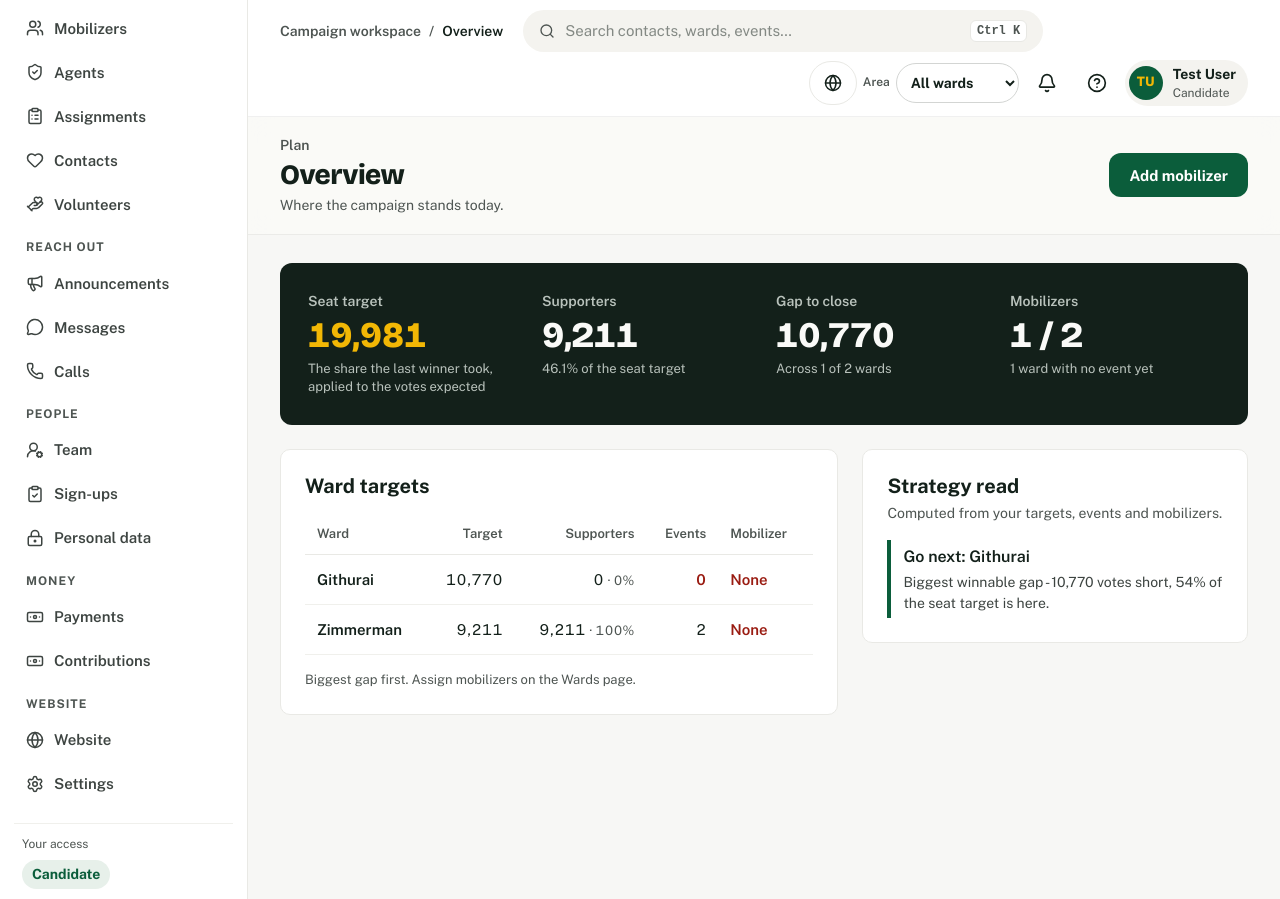
Scenario: the team page › lets the aspirant replace the manager, who is emailed an invite
The width and height of the screenshot is (1280, 899).
(page scrolled)
Click the link "Team" at (59, 450), box left=26, top=441, right=92, bottom=459
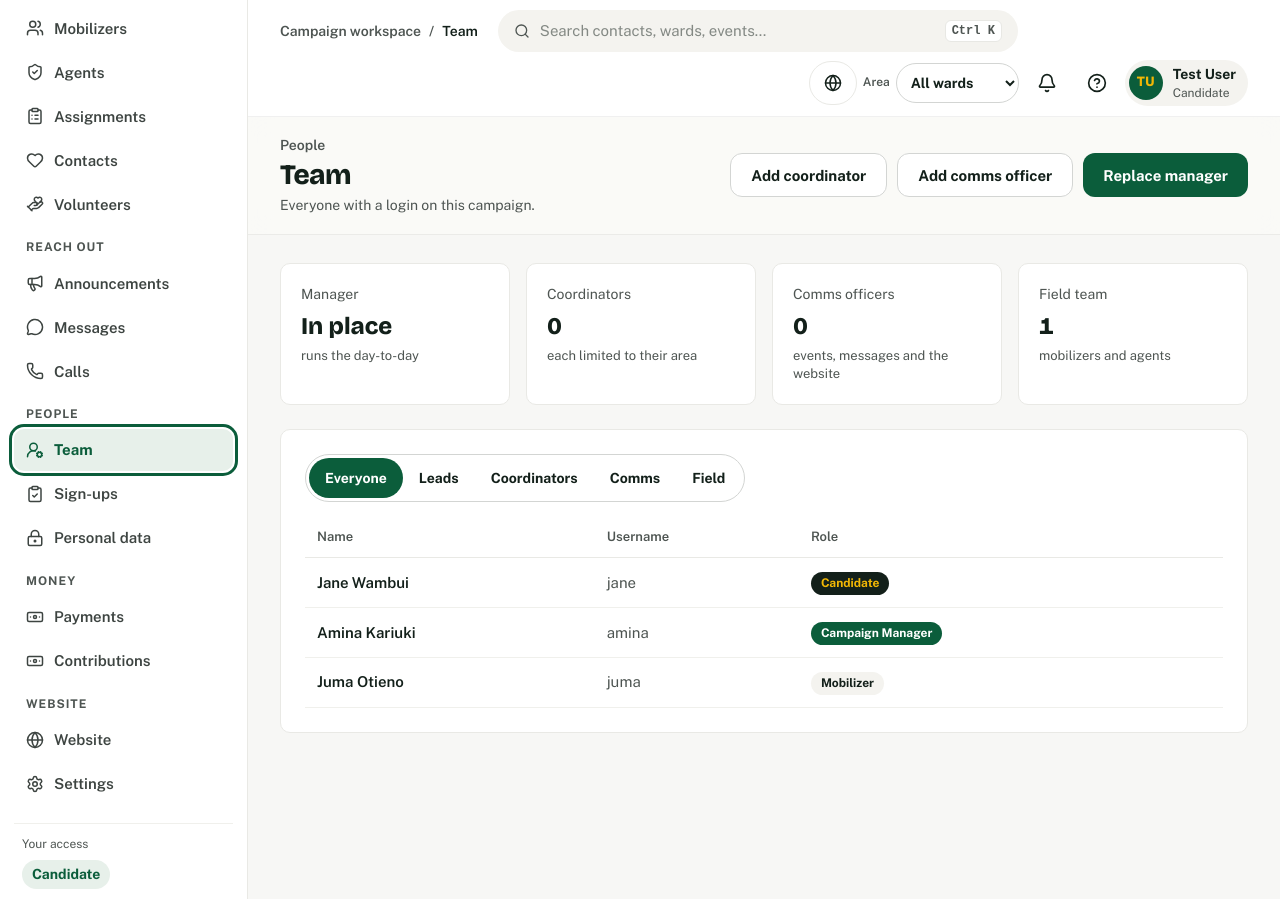
Check: the text "Amina Kariuki" is shown, box left=305, top=607, right=595, bottom=657
Click the button "Replace manager" at (1166, 175), box left=1083, top=153, right=1248, bottom=197
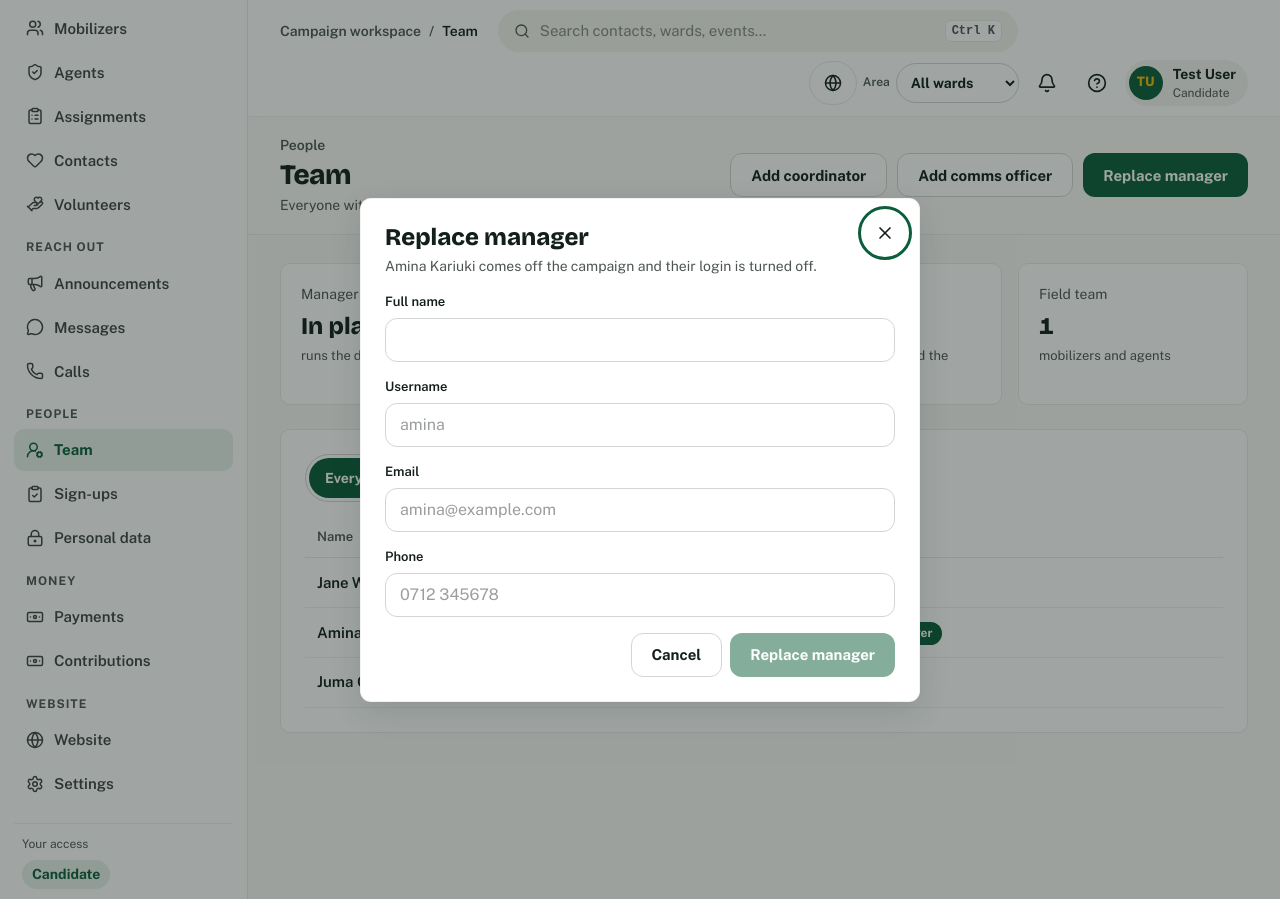
Type "Wanjiru Kamau" into the field labelled "Full name" at (640, 340), box left=385, top=318, right=895, bottom=362
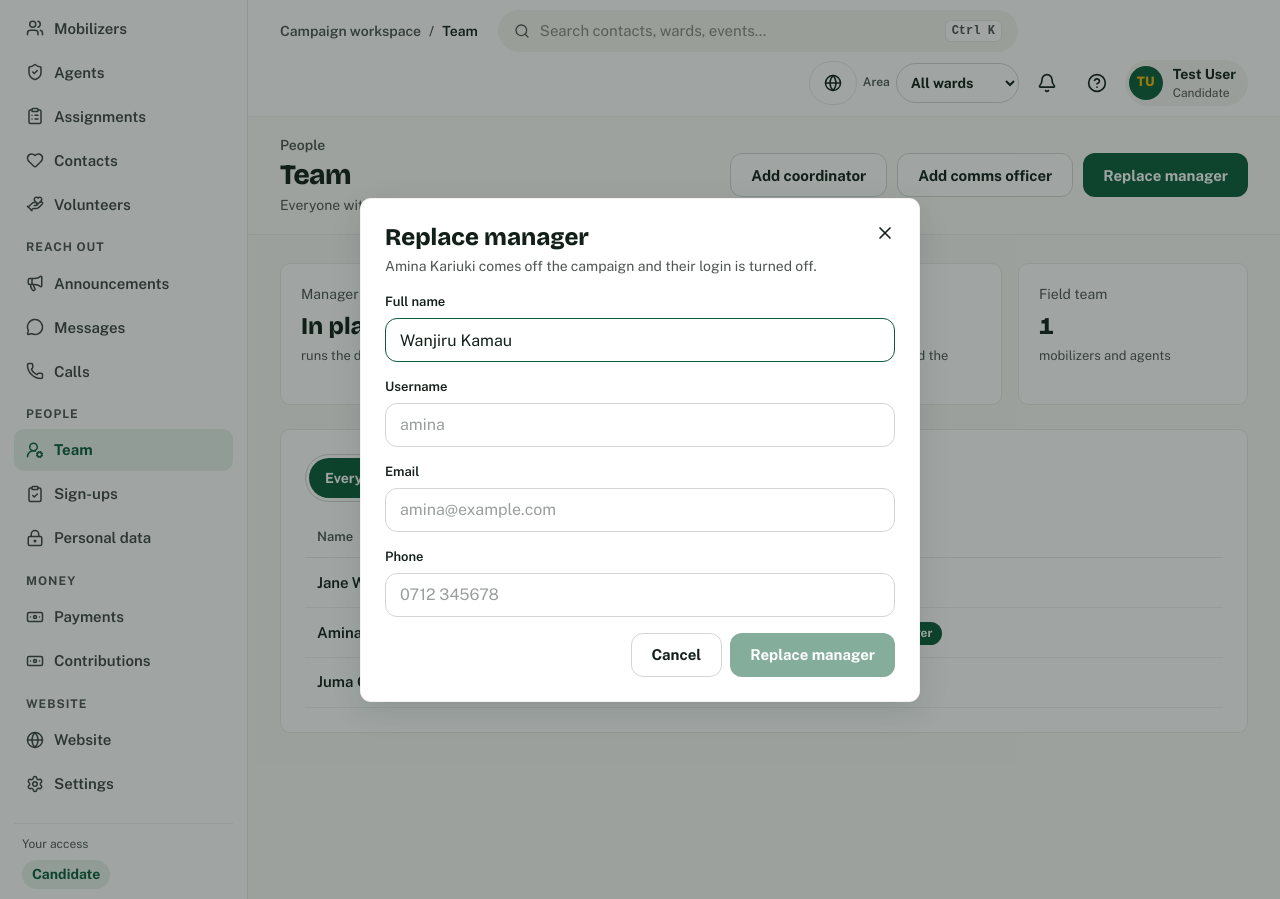
Type "Wanjiru" into the field labelled "Username" at (640, 425), box left=385, top=403, right=895, bottom=447
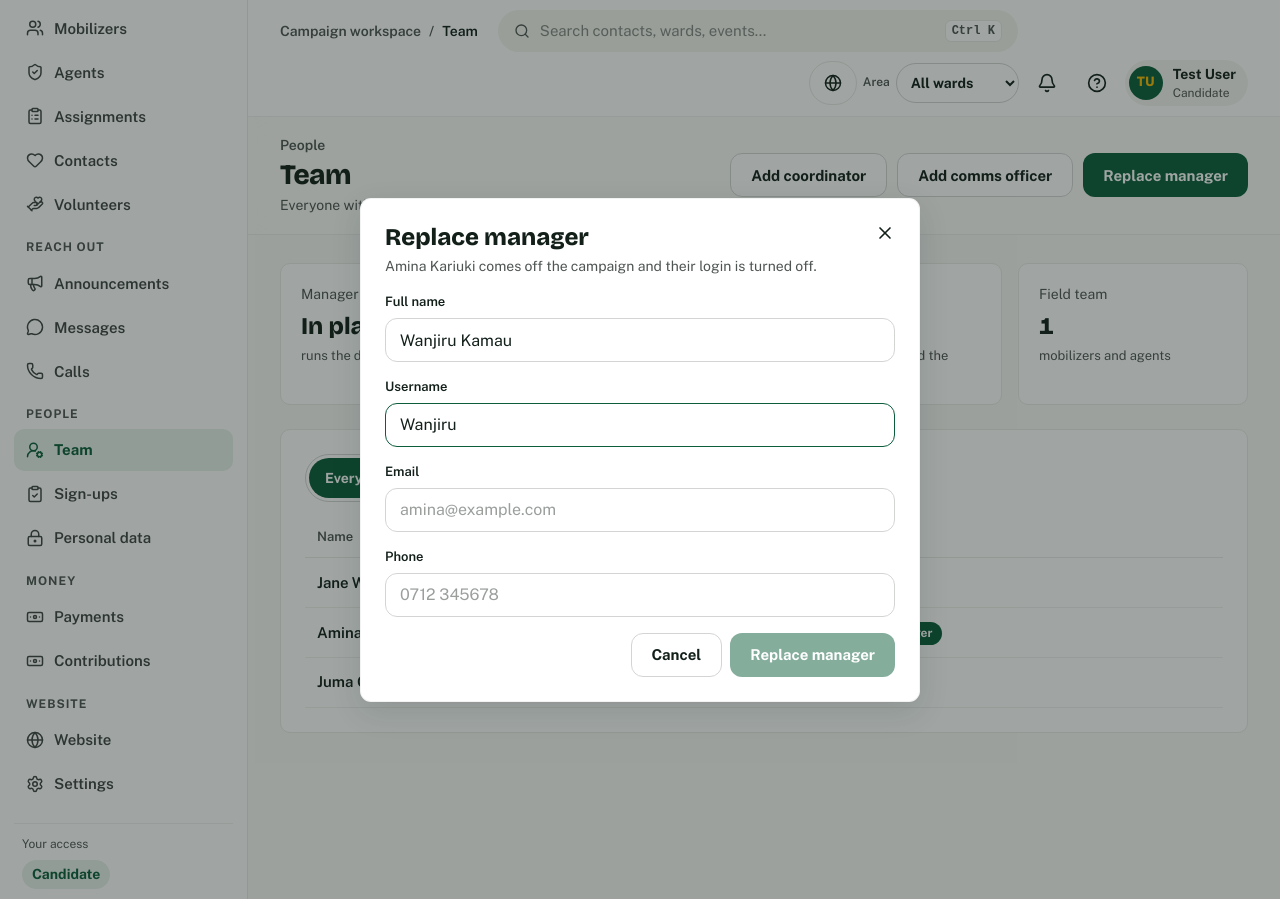
Type "wanjiru@example.com" into the field labelled "Email" at (640, 510), box left=385, top=488, right=895, bottom=532
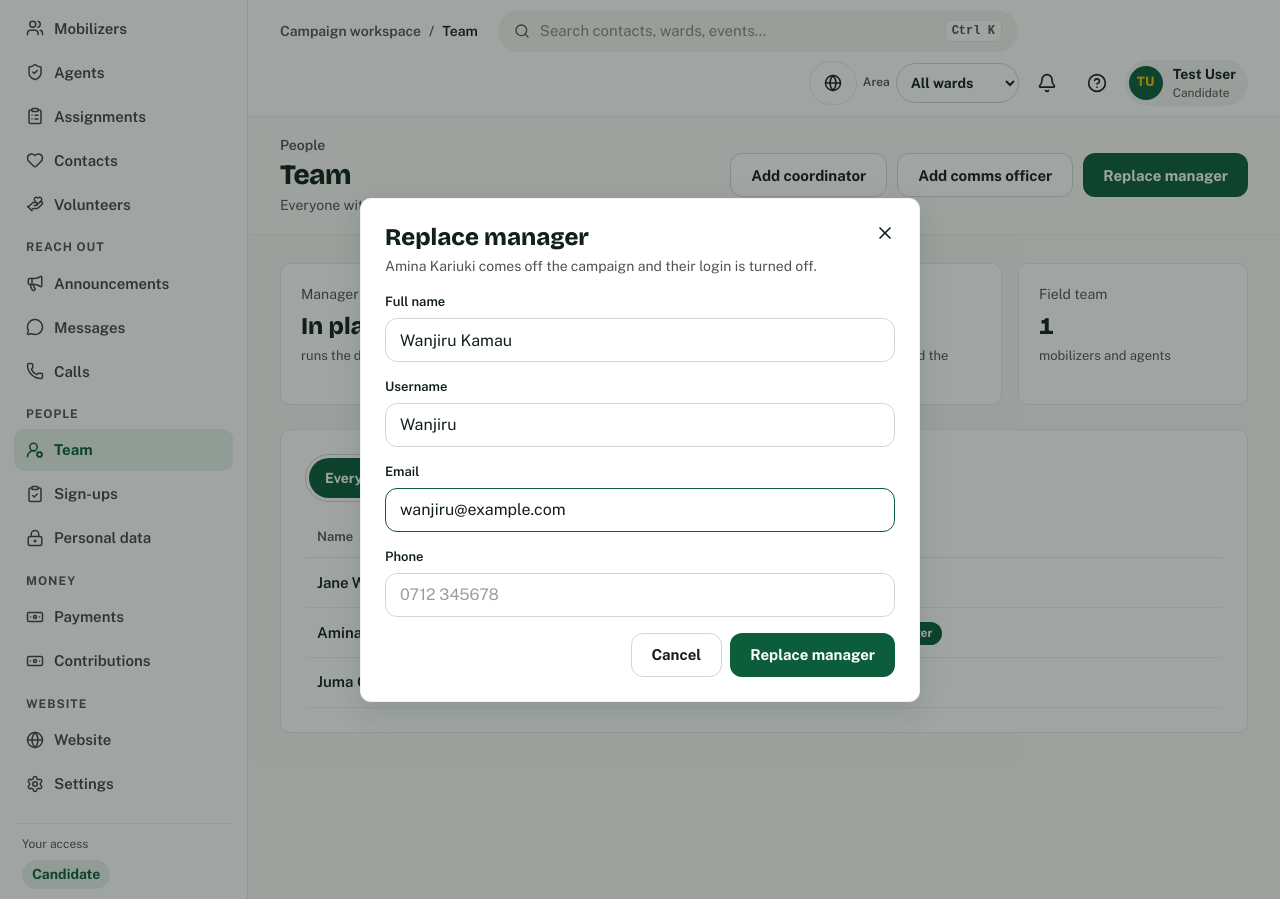
Click the button "Replace manager" at (813, 655), box left=730, top=633, right=895, bottom=677
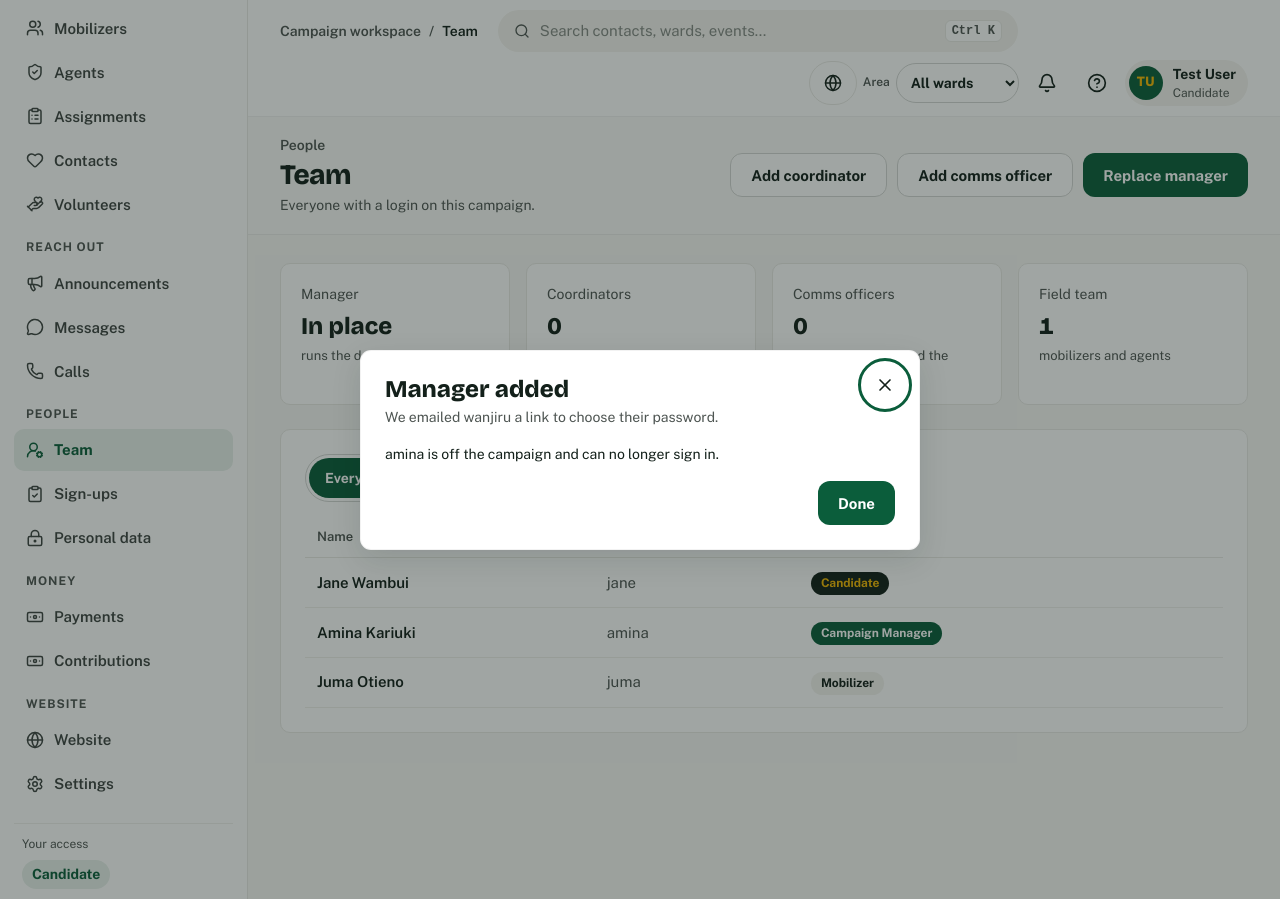
Check: the text "We emailed wanjiru a link to choose their password." is shown, box left=385, top=409, right=718, bottom=425
Check: the text "amina is off the campaign and can no longer sign in." is shown, box left=385, top=446, right=719, bottom=462
